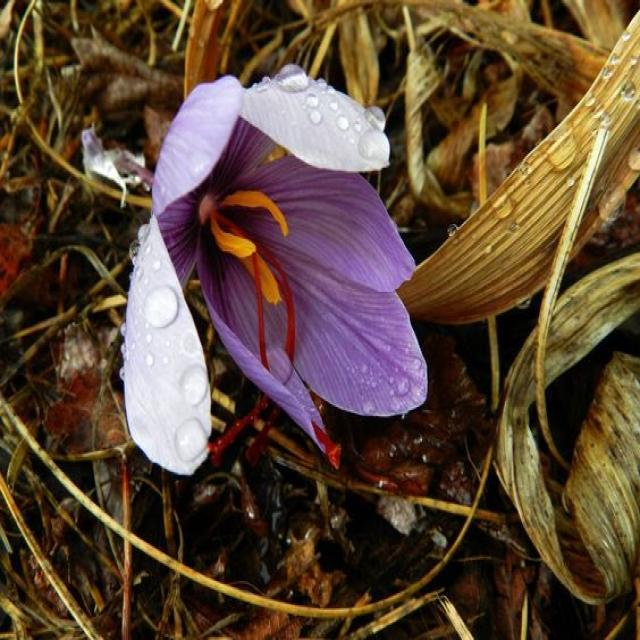Flower: (118, 64, 432, 469)
stigma: (222, 216, 348, 471), (203, 212, 301, 458)
